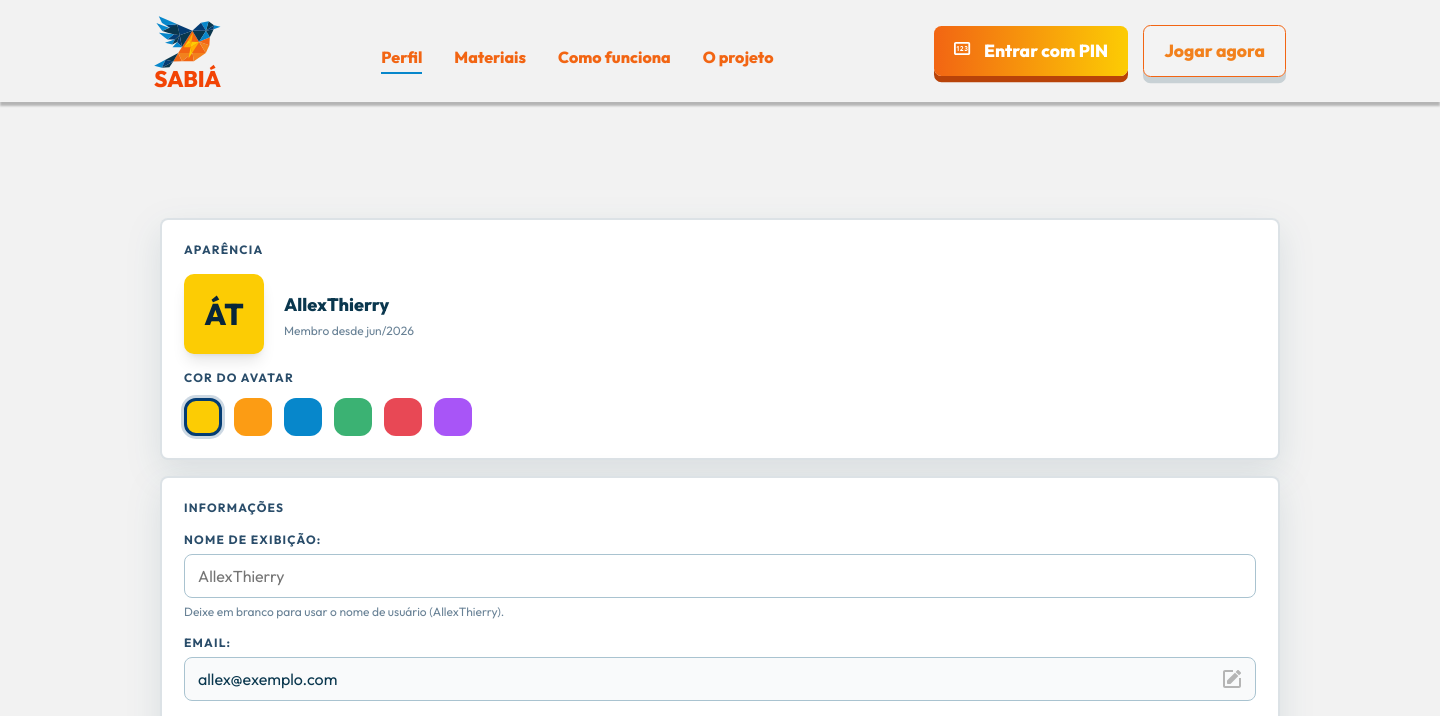
Scenario: Perfil › troca nome e cor com prévia e salva
The image size is (1440, 716).
Expected: the text "Membro desde jun/2026" is shown, left=284, top=322, right=414, bottom=338
Type "Állex Souza" into the field labelled "Nome de exibição:" at (720, 576), box left=184, top=554, right=1256, bottom=598
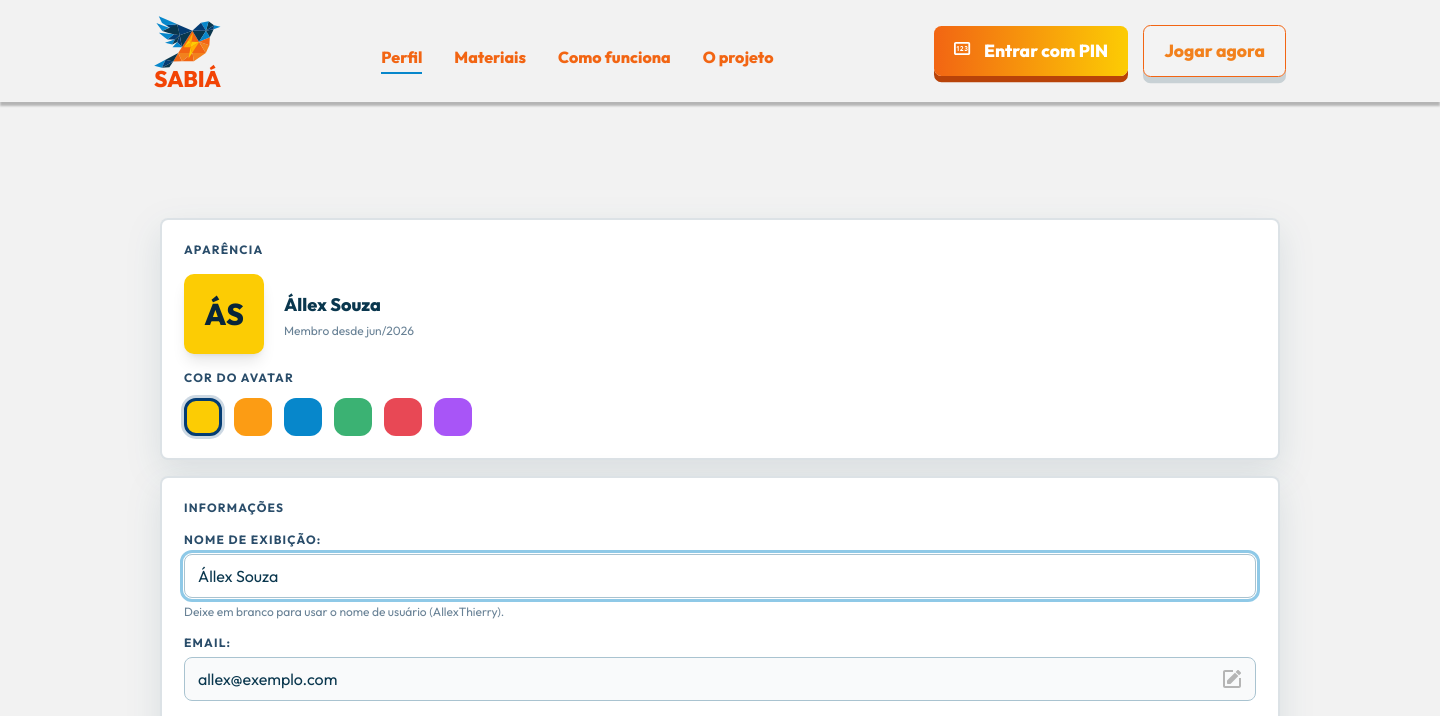
Expected: the text "Állex Souza" is shown, left=284, top=292, right=381, bottom=316
Click the radio button named "Roxo" at (453, 417), box left=434, top=398, right=472, bottom=436
(page scrolled)
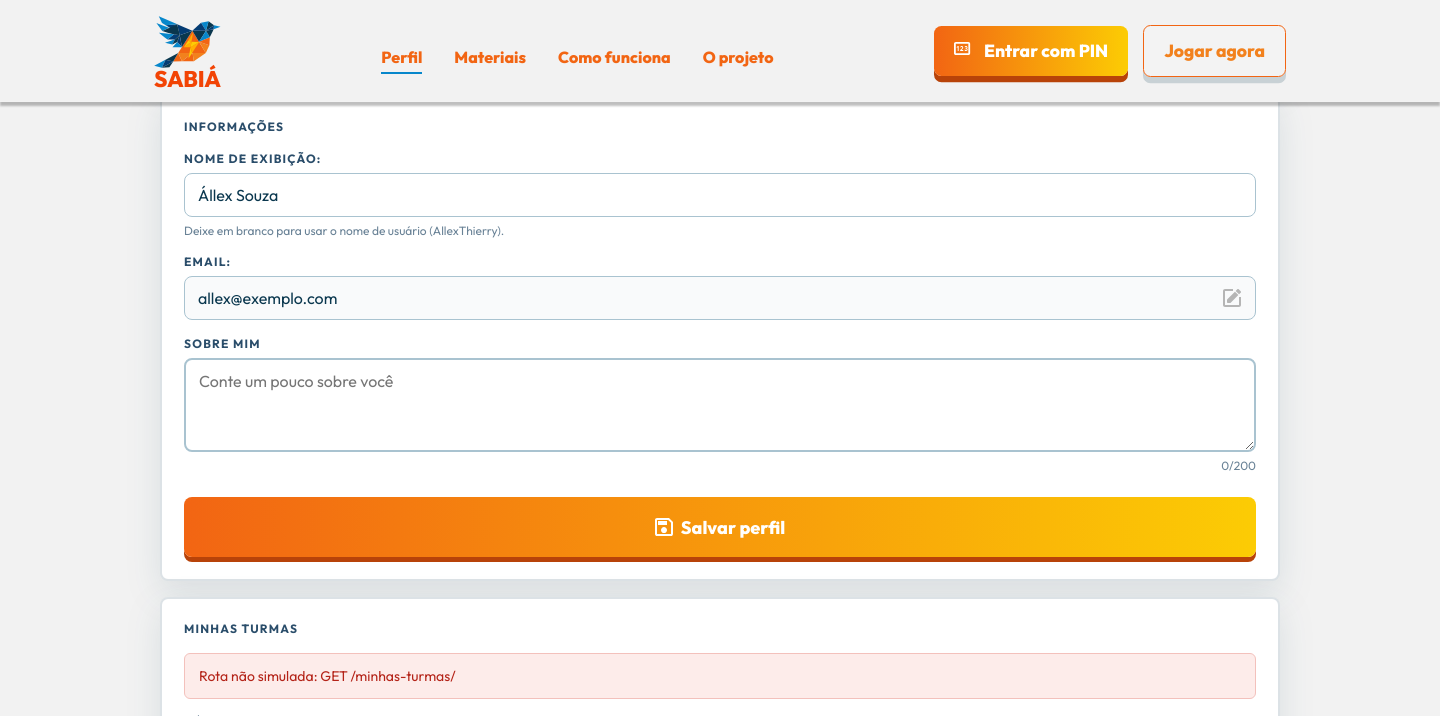
Type "Gosto de ciências" into the text box labelled "Sobre mim" at (720, 405), box left=184, top=358, right=1256, bottom=452
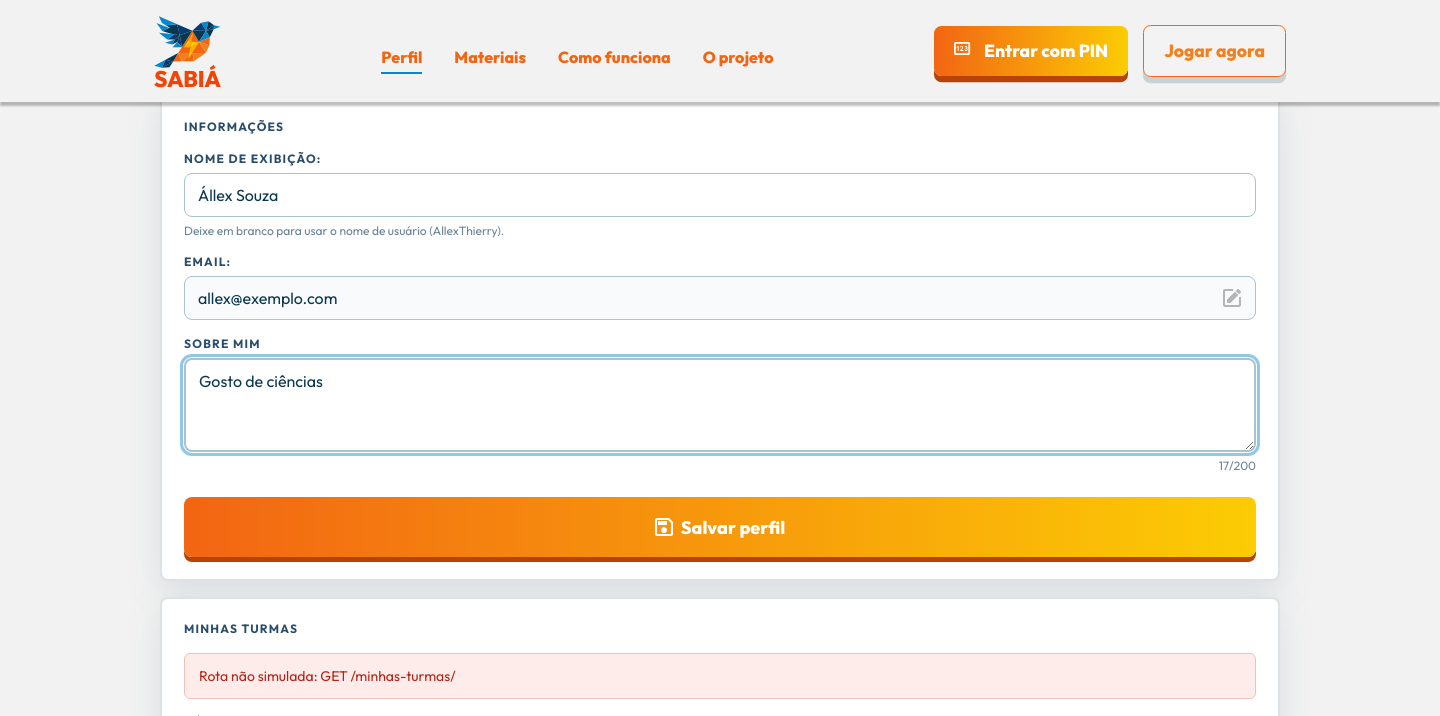
Expected: the text "17/200" is shown, left=1219, top=458, right=1256, bottom=473
Click the button "Salvar perfil" at (720, 527), box left=184, top=497, right=1256, bottom=557
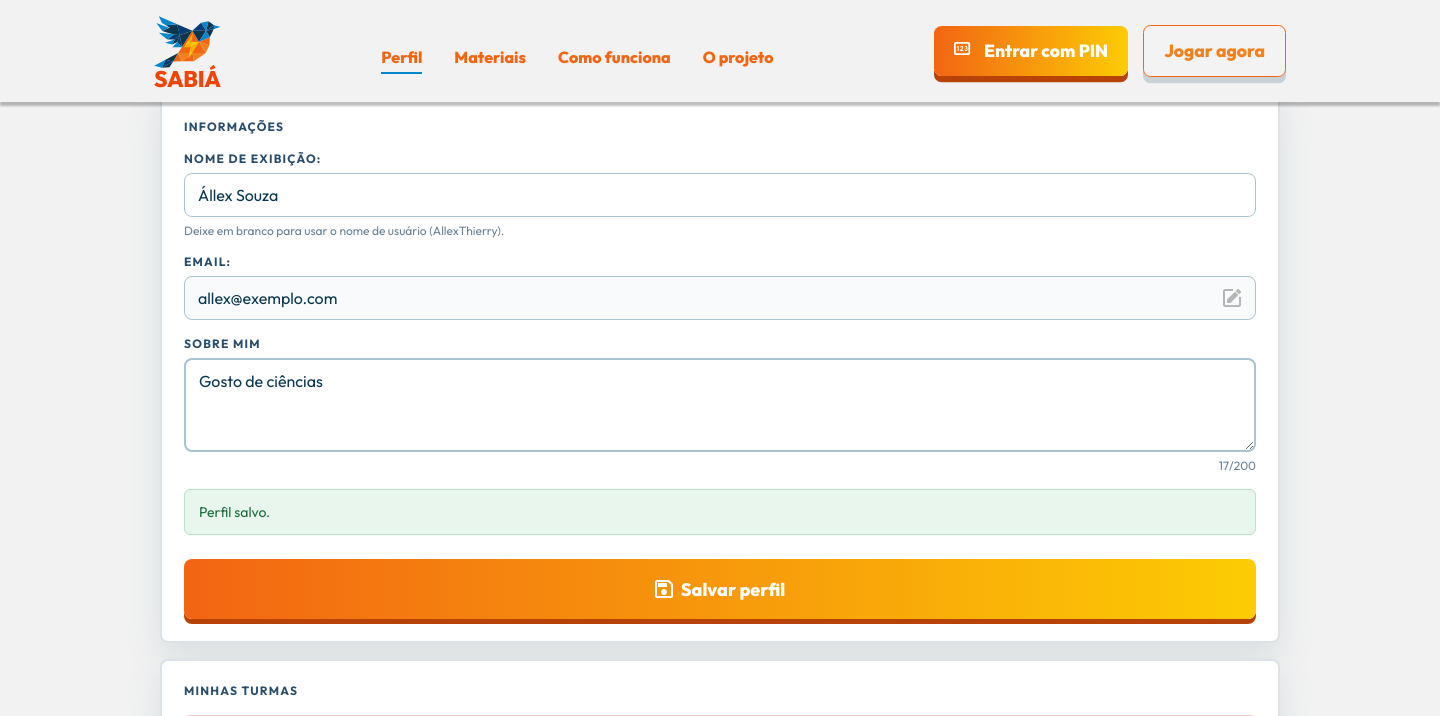
Expected: the text "Perfil salvo." is shown, left=184, top=489, right=1256, bottom=535
